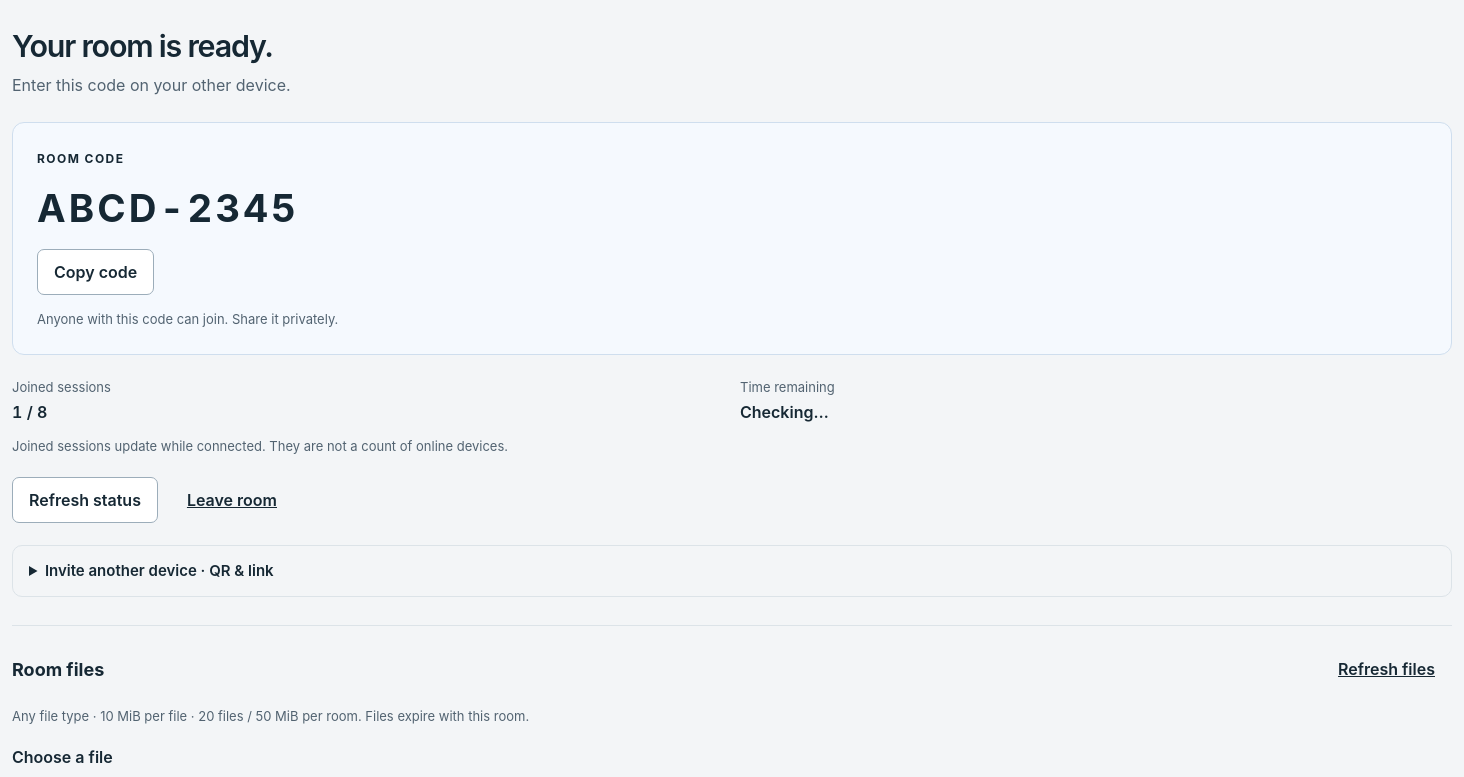
Test: refresh reflects another joined session
The width and height of the screenshot is (1464, 777).
Expected: the text "1 / 8" is shown, x1=12 y1=402 x2=47 y2=422
Click the button "Refresh status": (85, 500) x1=12 y1=477 x2=158 y2=523
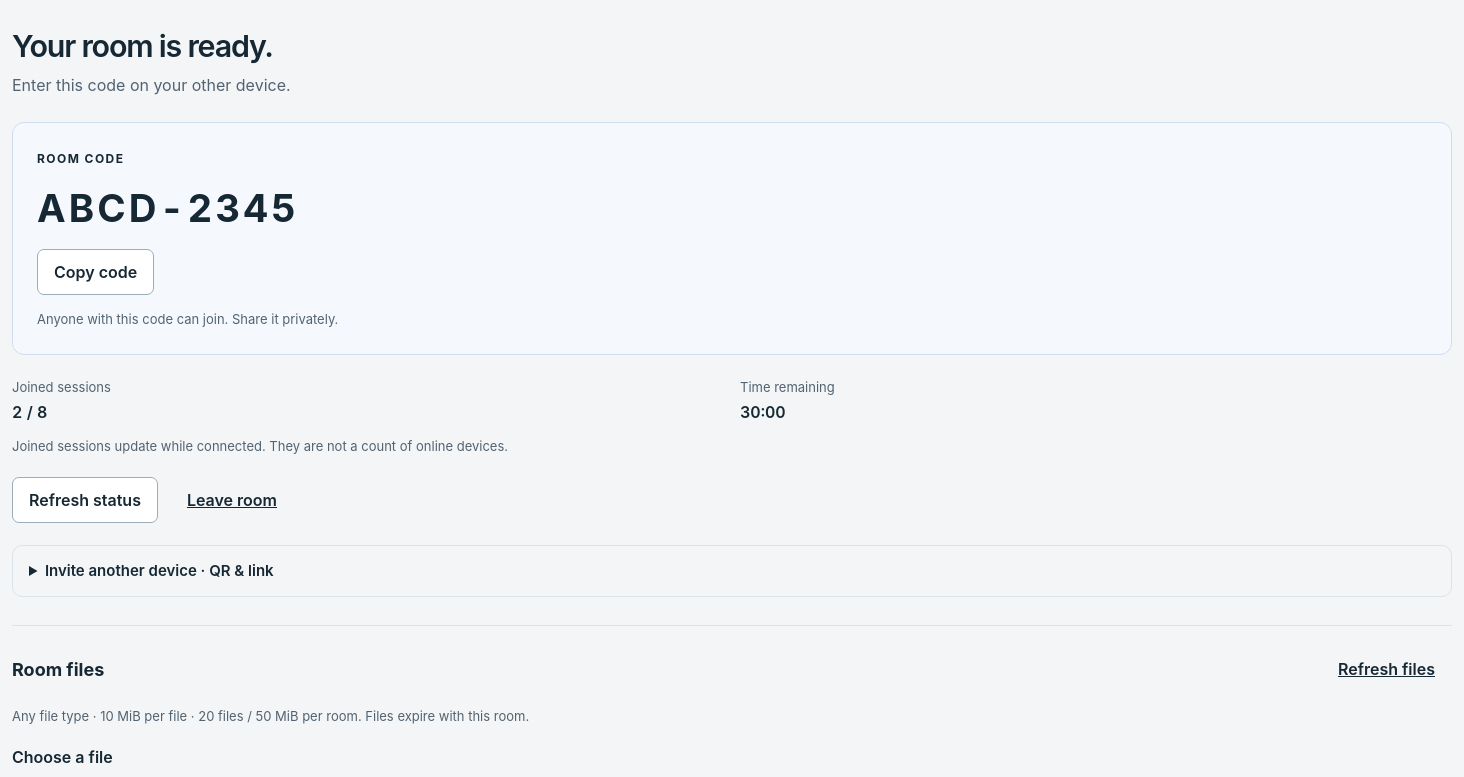
Expected: the text "2 / 8" is shown, x1=12 y1=402 x2=47 y2=422
